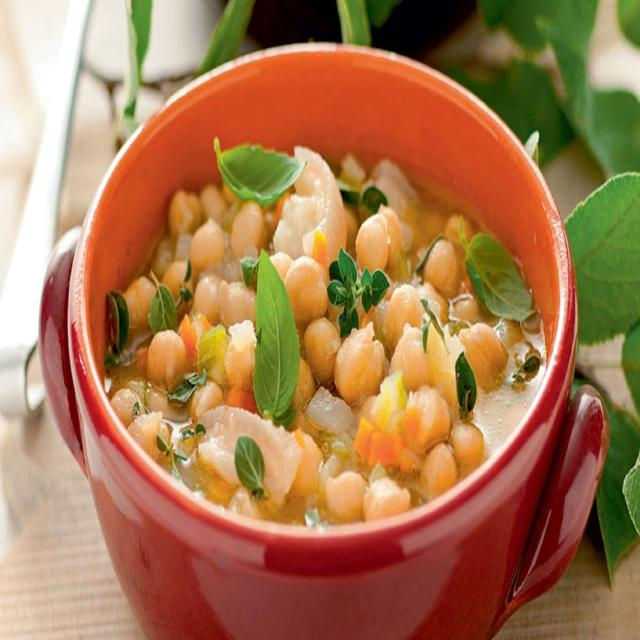garbanzos: (87, 109, 552, 539)
